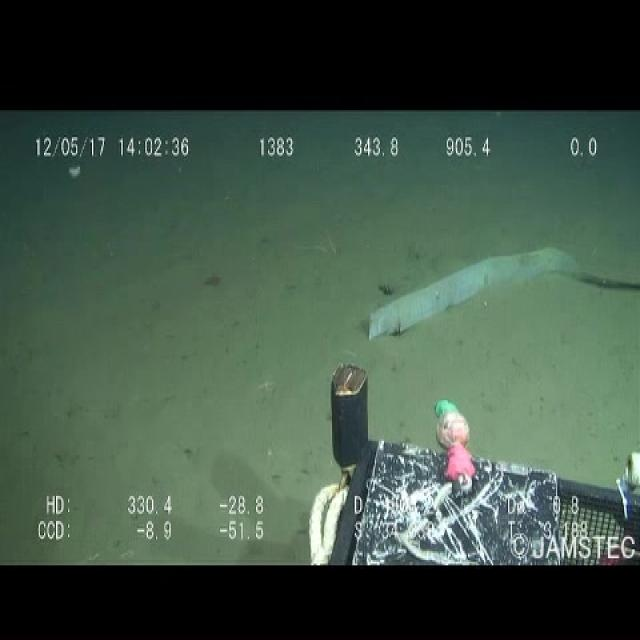plastic: (362, 242, 638, 345)
